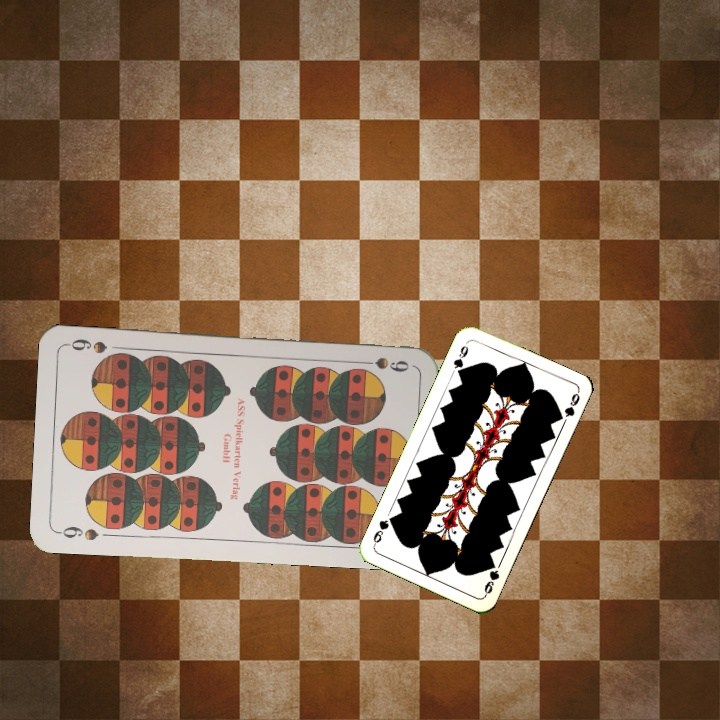G9: (480, 557, 502, 598), (449, 338, 471, 378)
S9: (353, 353, 412, 375), (54, 521, 101, 543)
